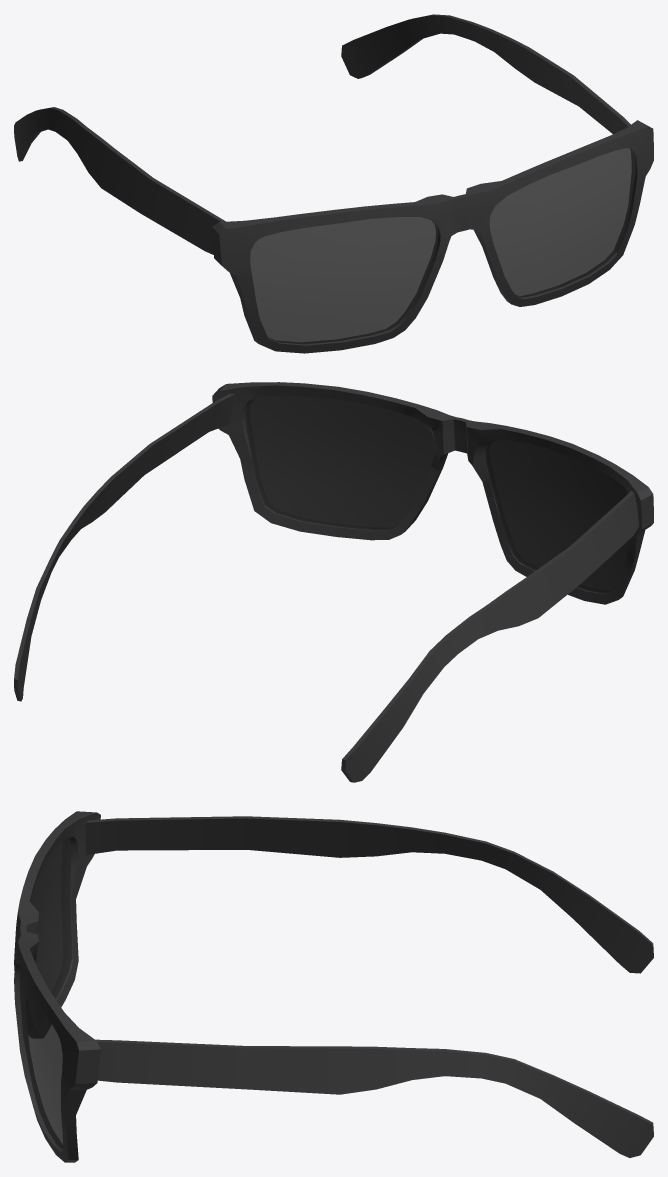
The model's file is glasses.glb.
3 renders of one model, top to bottom at view 1: azimuth 30°, elevation 25°; view 2: azimuth 150°, elevation 25°; view 3: azimuth 270°, elevation 25°, orthographic. The views are drawn at different scales.
Visible parts, largest first — view 1: Glasses; view 2: Glasses; view 3: Glasses.
Boxes of the visible parts, x1,y1,x2,y2 form: Glasses: [14, 14, 653, 353]; Glasses: [14, 382, 653, 782]; Glasses: [14, 811, 653, 1162].
Size of the model in its own units: 20.67 by 6.34 by 23.12.
Materials: 2 (1 with a texture image).
